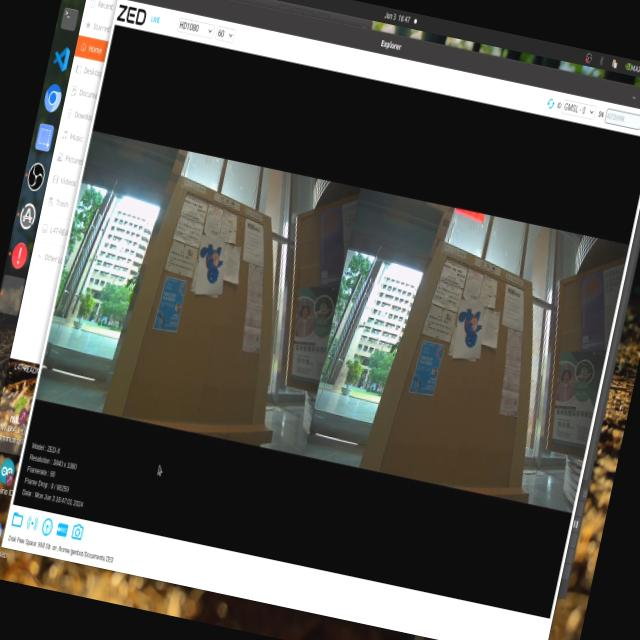blue: (446, 294, 498, 364), (184, 232, 231, 296)
